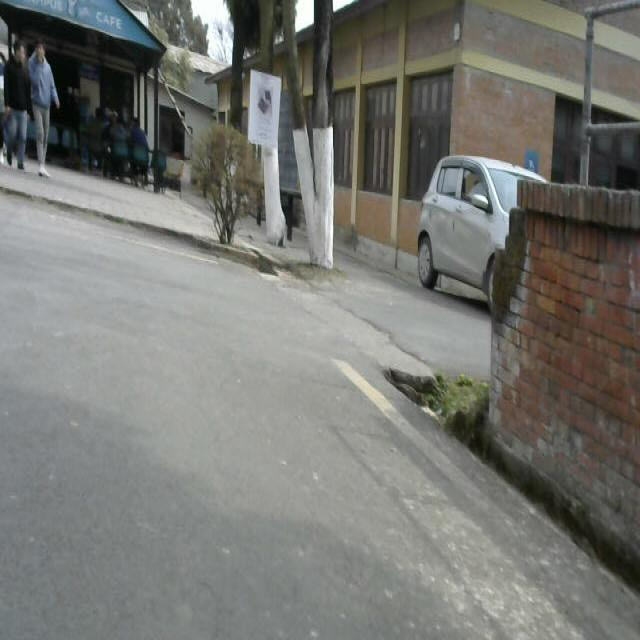Buildings: (4, 1, 180, 214)
Car: (417, 150, 497, 324)
Road: (6, 277, 638, 640)
trees: (246, 0, 352, 258), (189, 117, 260, 245)
